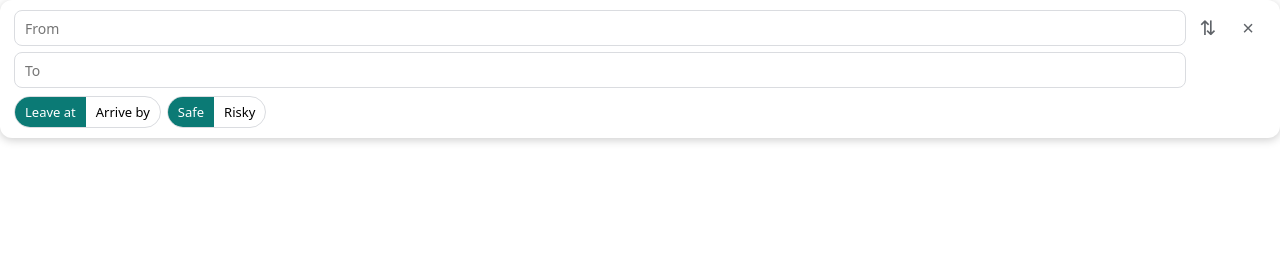
Test: TripSearch › searches once, after a 400 ms pause and from 3 characters
Type "ko" into the field labelled "To" at (600,70), box [14,52,1186,88]
Wait 1000 ms
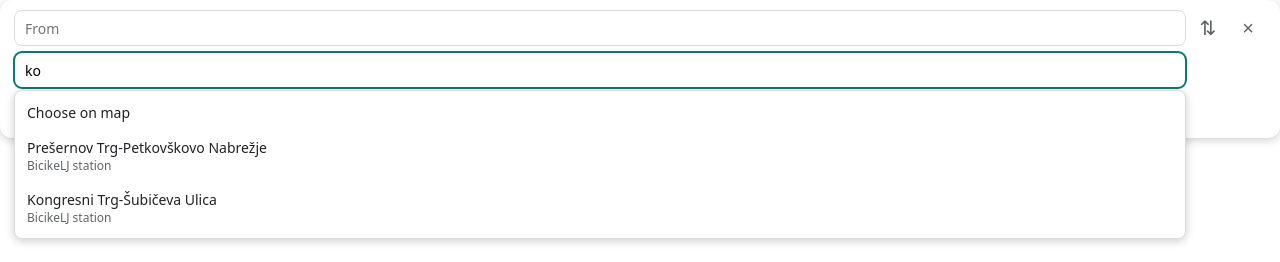
Type "lodvor" into the field named "To" at (600,70), box [14,52,1186,88]
Wait 400 ms
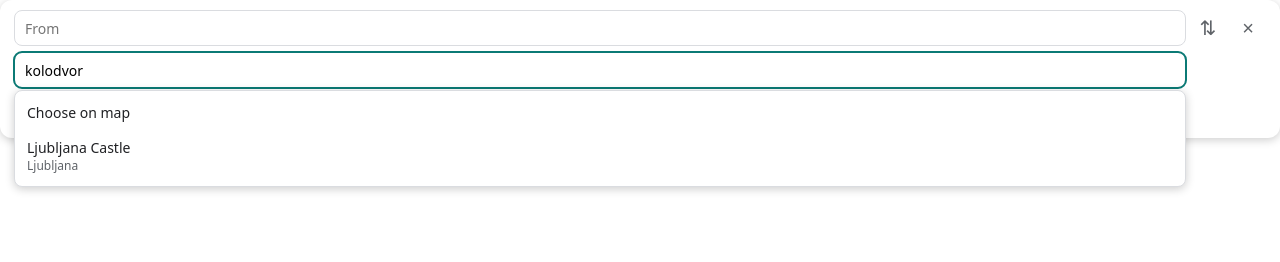
Expected: the option "Ljubljana Castle Ljubljana" is shown, [27,138,130,174]
